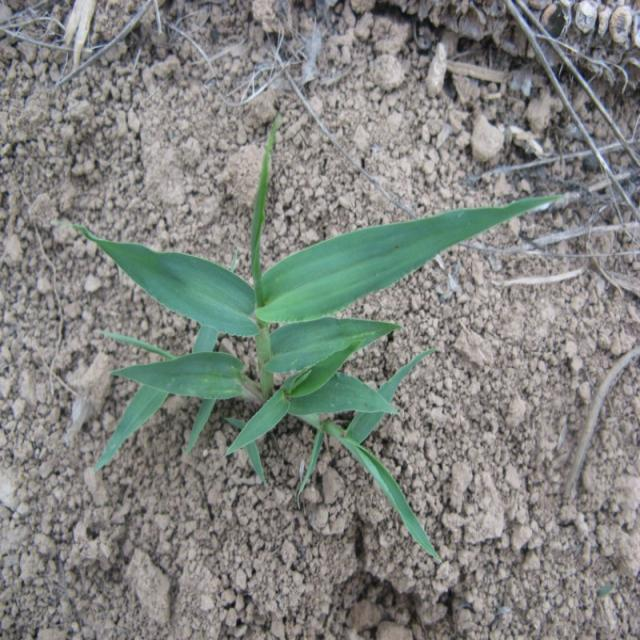bg: (86, 122, 553, 559)
